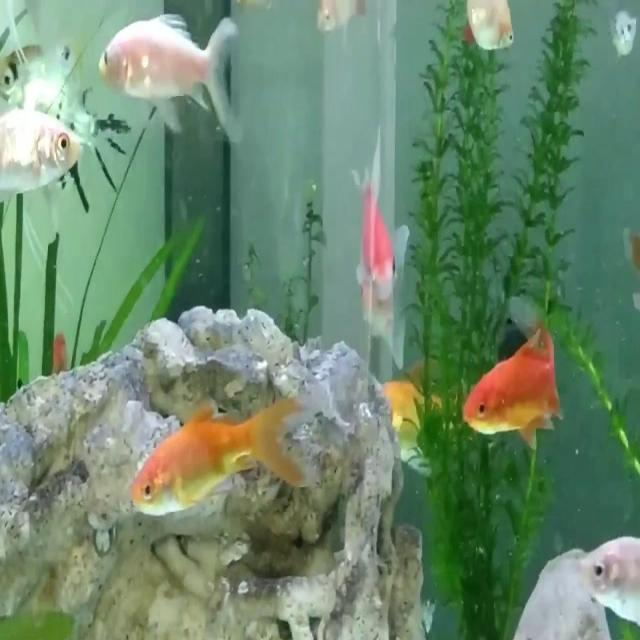GoldFish: (125, 381, 307, 531), (449, 324, 567, 461)
